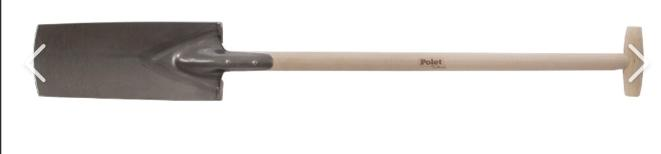PELLE: (19, 0, 661, 154)
